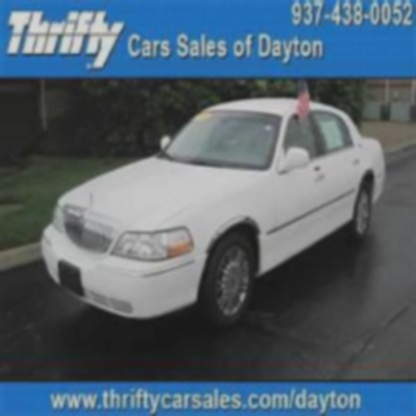Vehicle: (36, 91, 392, 331)
